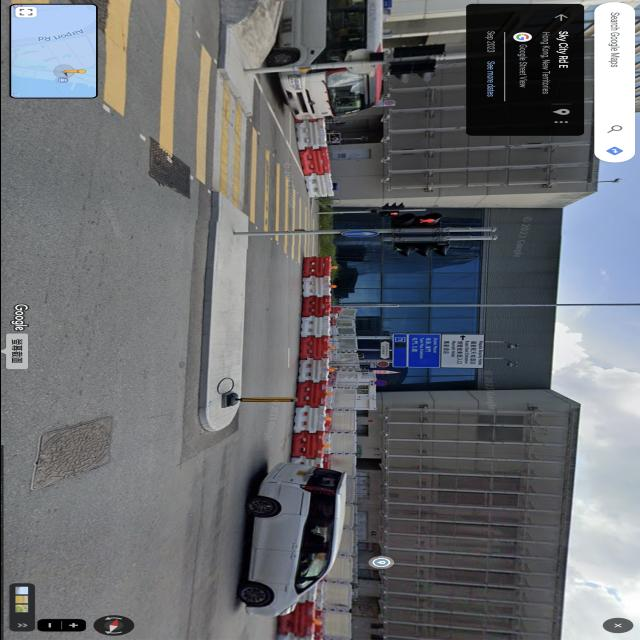Direction-Sign: (438, 334, 484, 368), (393, 335, 438, 367)
Order-Sign: (376, 380, 386, 386), (378, 362, 388, 366)
Street-Direction-Sign: (379, 342, 389, 359)
Warning-Sign: (342, 230, 374, 238), (386, 370, 398, 374)
